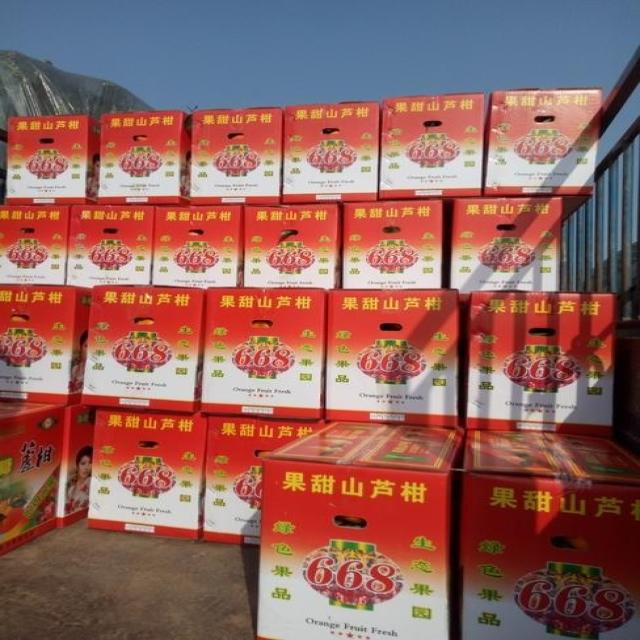box: (256, 419, 465, 639), (445, 428, 638, 638), (459, 290, 614, 437), (327, 290, 463, 428), (202, 288, 329, 419), (87, 405, 209, 540), (204, 412, 326, 547), (83, 285, 211, 412), (443, 194, 563, 303), (483, 88, 601, 197), (0, 283, 97, 405), (379, 94, 484, 201), (281, 103, 380, 204), (0, 403, 65, 553), (344, 198, 446, 290), (99, 111, 194, 206), (244, 202, 344, 290), (5, 116, 100, 206), (194, 109, 282, 205), (152, 205, 244, 288), (65, 205, 154, 286), (1, 205, 69, 284), (58, 404, 96, 528)
